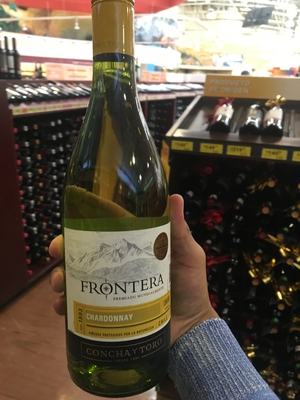frontera chardonnay: (56, 10, 188, 400)
